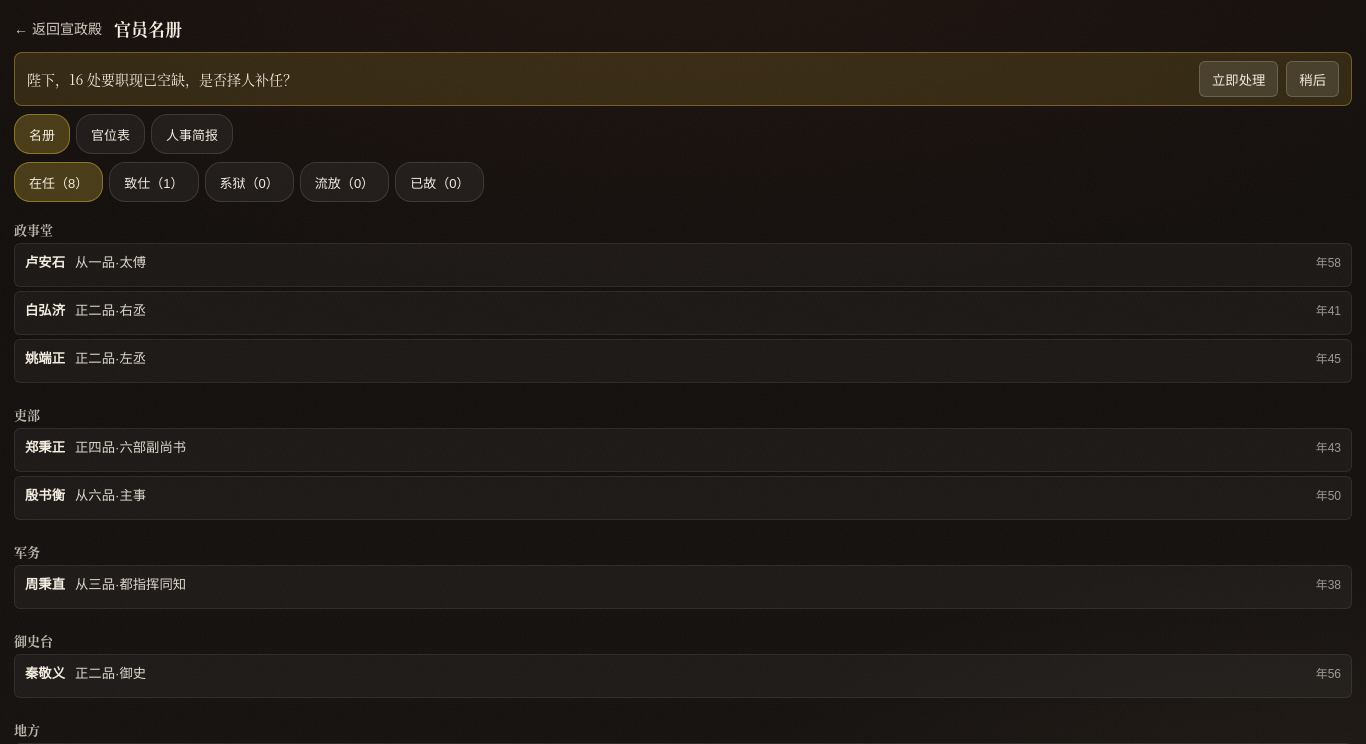
it: OfficialsScreen — non-active officials keep their former post (P2) › groups a retired official under its former department and shows 原任
Step 1. Click the button "致仕（1）" → coordinates (154, 182), box [109, 162, 199, 202]
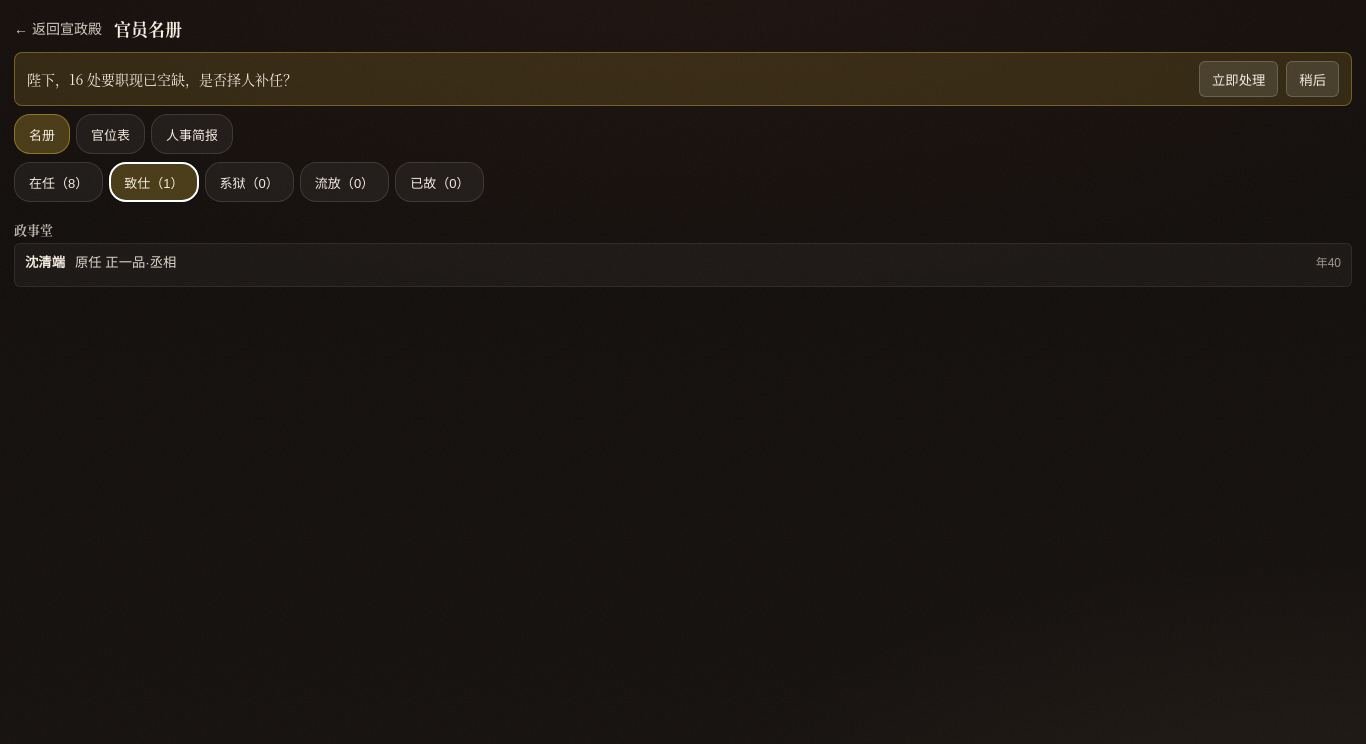
Expected: the heading "政事堂" is shown, [14, 220, 53, 239]
Result: the text "原任 正一品·丞相" is shown at [75, 252, 176, 271]
